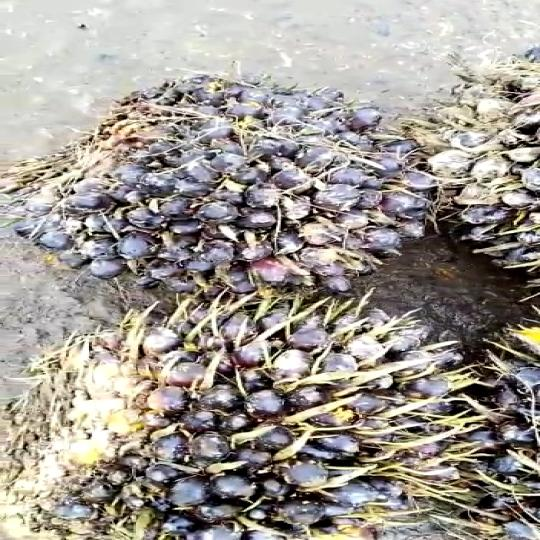mentah: (19, 302, 493, 540), (0, 61, 440, 295)
